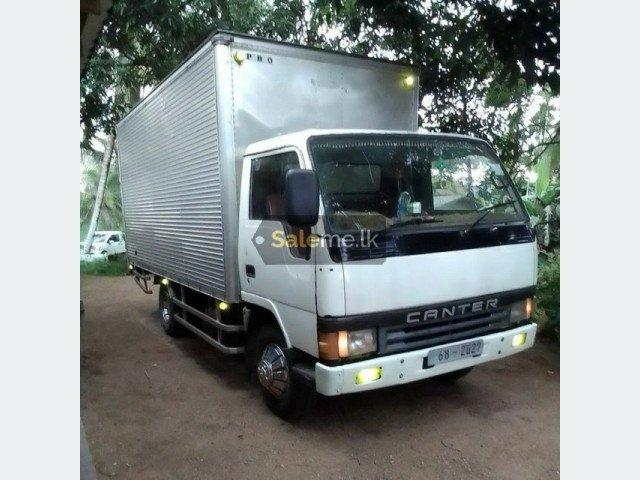truck: (114, 29, 538, 420)
